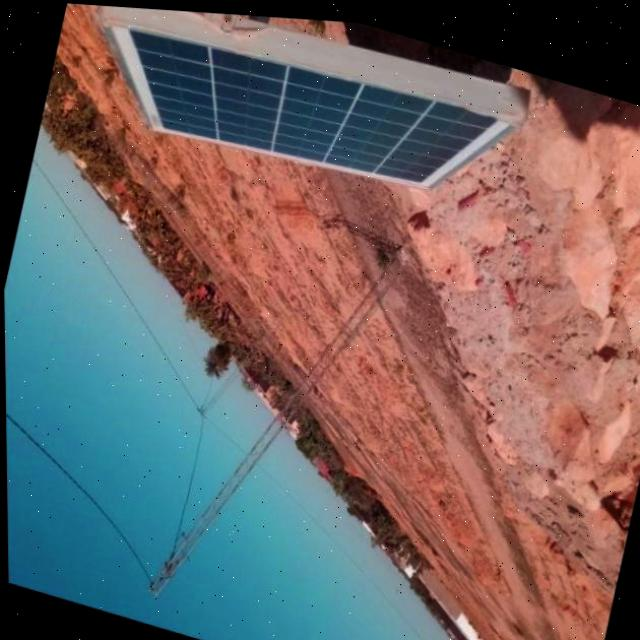Normal Solar Panel: (79, 2, 517, 228)
